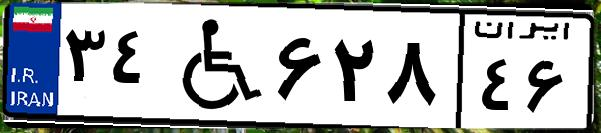2: (330, 28, 385, 110)
3: (57, 26, 110, 100)
4: (475, 38, 525, 113), (110, 28, 158, 98)
6: (270, 28, 330, 110), (525, 38, 570, 115)
8: (385, 28, 445, 110)
ژ (معلولین و جانبازان): (158, 12, 270, 120)
